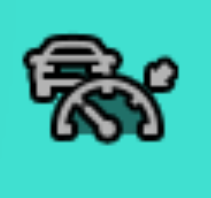ACC_AKTIV: (16, 22, 184, 151)
